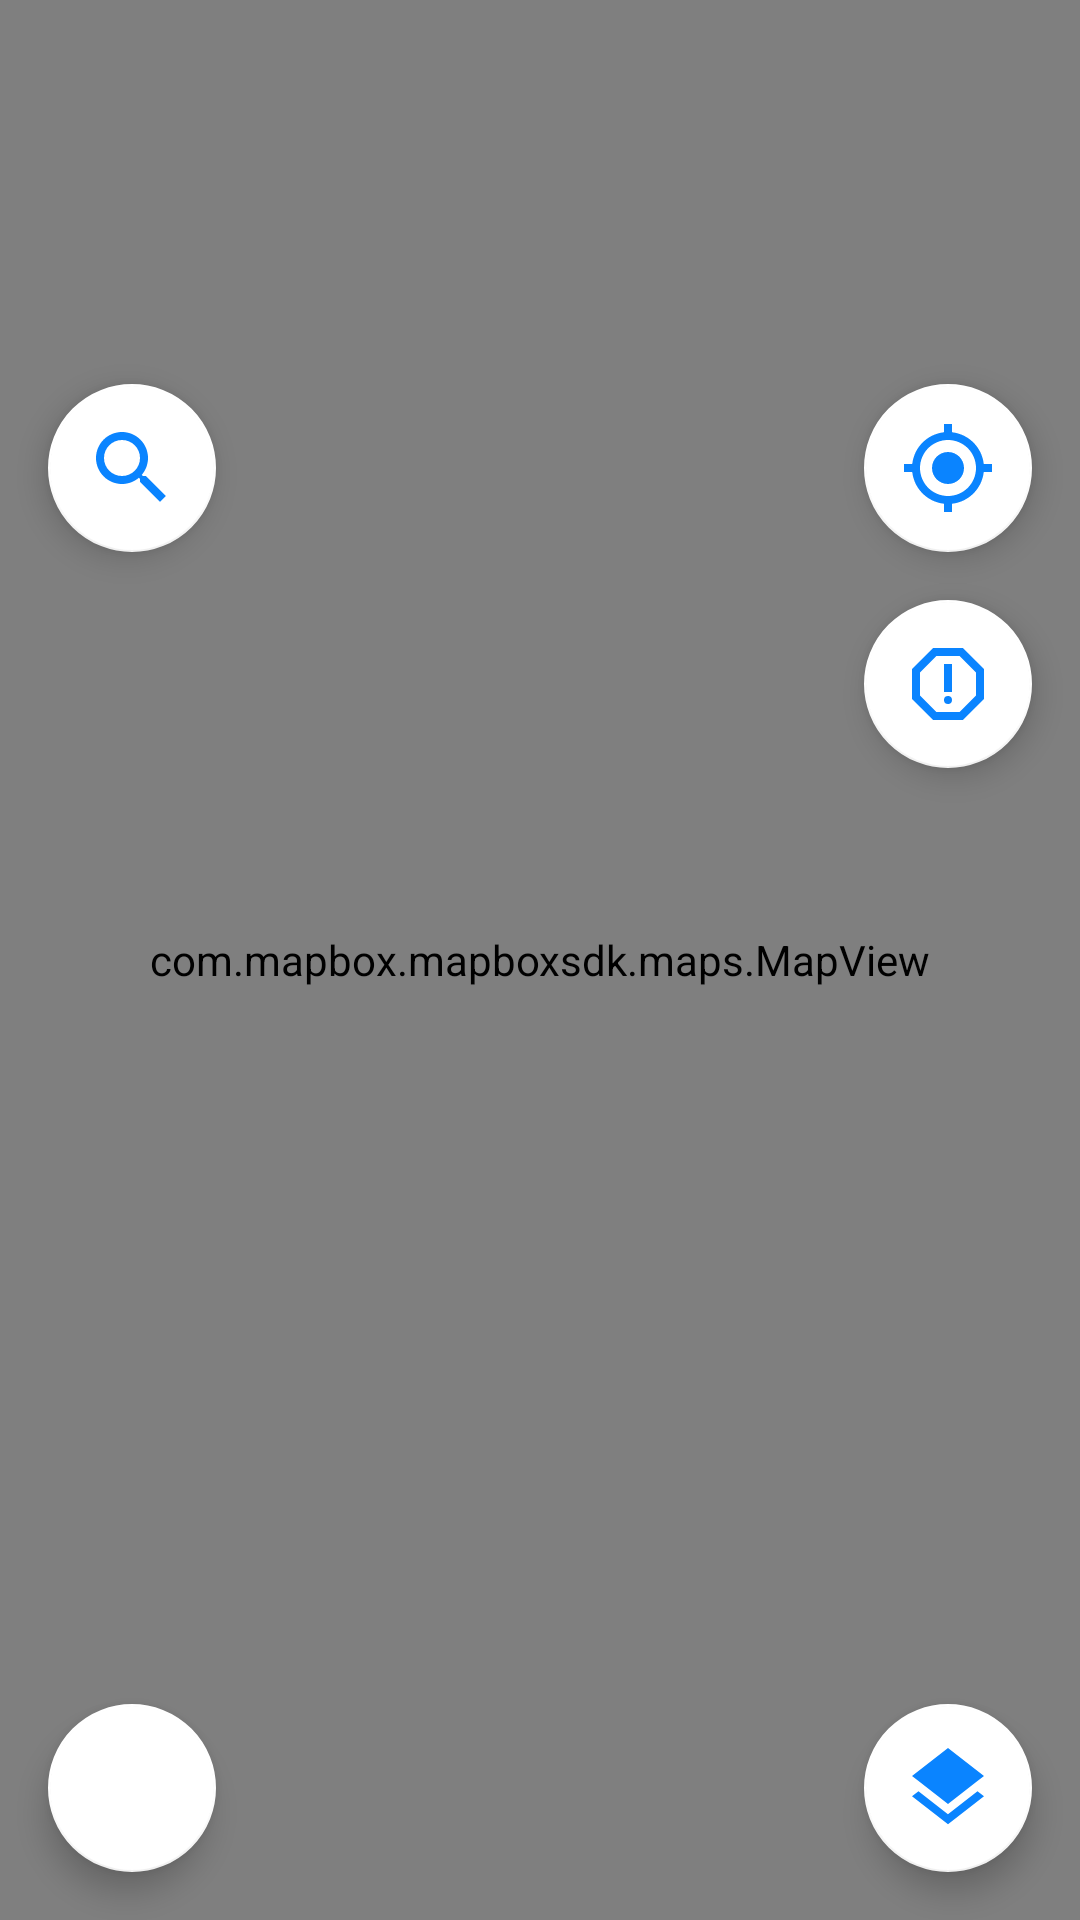

Screen size 1080 x 1920. Icon name, then its box in pixels as (x1, y1, x2, y2):
layers: (864, 1704, 1032, 1872)
location: (864, 384, 1032, 552)
report: (864, 600, 1032, 768)
search: (48, 384, 216, 552)
